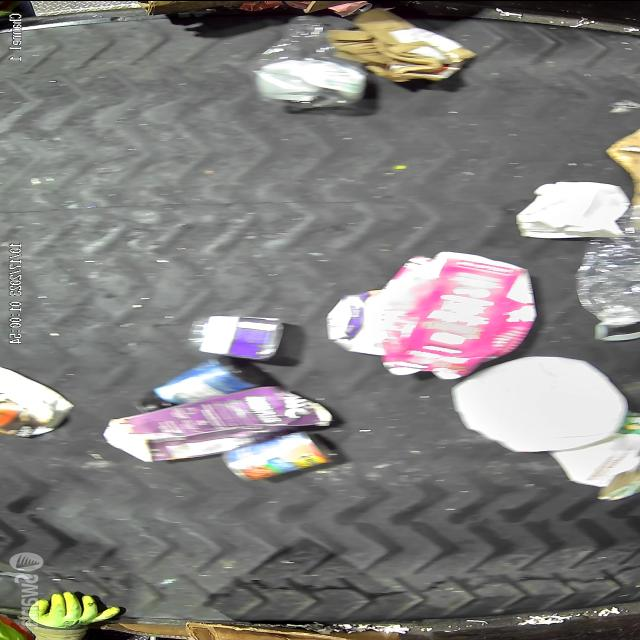can: (222, 431, 334, 481)
milk_jug: (449, 355, 631, 451)
non_white_jug: (376, 250, 536, 378), (104, 384, 334, 462)
plastic_bottle: (251, 14, 367, 107), (575, 208, 640, 324)
